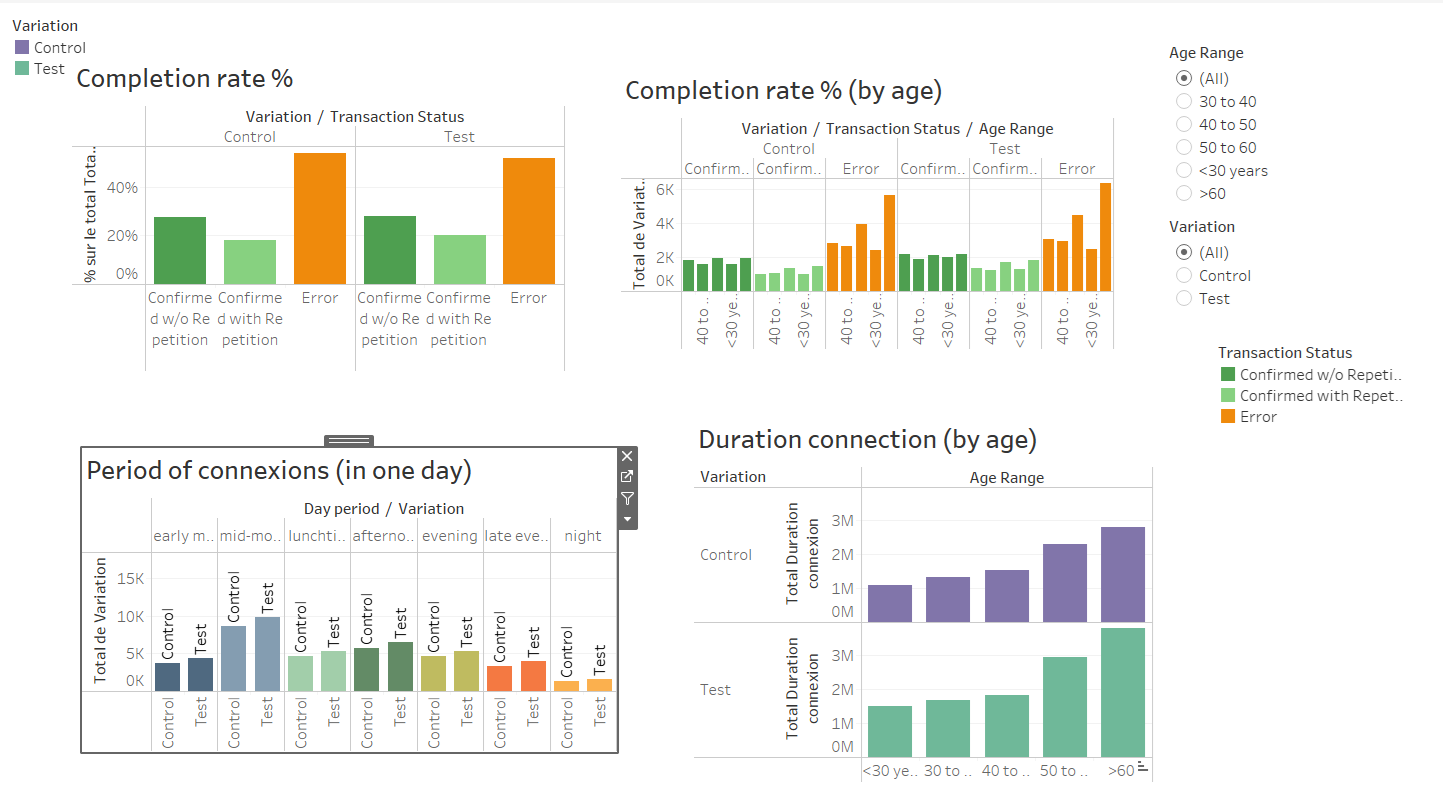

The dashboard page shown, as its layout file describes it:
{"tool":"tableau","page":{"name":"Dash1_completionRate_connexions","canvas":[1479,846],"ordinal":0},"visuals":[{"type":"legend","title":"duration_connect_by_age","param":"[federated.1mclvdg1ve96vo16o2kth12nab2m].[none:variation:nk]","box":[8,8,1463,830]},{"type":"filter","title":"completion_rate_%_by_age","param":"[federated.1mclvdg1ve96vo16o2kth12nab2m].[none:age_range:nk]","box":[1165,35,238.9,146]},{"type":"worksheet","title":"completion_rate (bar chart)","mark":"Automatic","cols":["variation","transaction_status"],"box":[72,53,493,316]},{"type":"worksheet","title":"completion_rate_%_by_age","mark":"Automatic","rows":["variation"],"cols":["variation","transaction_status","age_range"],"box":[621,65,493,282]},{"type":"filter","title":"completion_rate_%_by_age","param":"[federated.1mclvdg1ve96vo16o2kth12nab2m].[none:variation:nk]","box":[1165,181,238.9,89]},{"type":"legend","title":"completion_rate (bar chart)","param":"[federated.1mclvdg1ve96vo16o2kth12nab2m].[none:transaction_status:nk]","box":[1218,339,192,85]},{"type":"worksheet","title":"duration_connect_by_age","mark":"Automatic","rows":["variation","total_duration"],"cols":["age_range"],"box":[694,414,459,366]},{"type":"worksheet","title":"period_of_connexions_day","mark":"Automatic","rows":["variation"],"cols":["Day period","variation"],"box":[119,440,535,304]}]}

Visuals, with their boxes on the page's 1479x846 design canvas (x1, y1, x2, y2). These are canvas units, not pixel positions in the 1443x788 screenshot, which may show the page scaled, cropped or inside an application window:
"duration_connect_by_age" legend: box(8, 8, 1471, 838)
"completion_rate_%_by_age" filter: box(1165, 35, 1404, 181)
"completion_rate (bar chart)" worksheet: box(72, 53, 565, 369)
"completion_rate_%_by_age" worksheet: box(621, 65, 1114, 347)
"completion_rate_%_by_age" filter: box(1165, 181, 1404, 270)
"completion_rate (bar chart)" legend: box(1218, 339, 1410, 424)
"duration_connect_by_age" worksheet: box(694, 414, 1153, 780)
"period_of_connexions_day" worksheet: box(119, 440, 654, 744)
